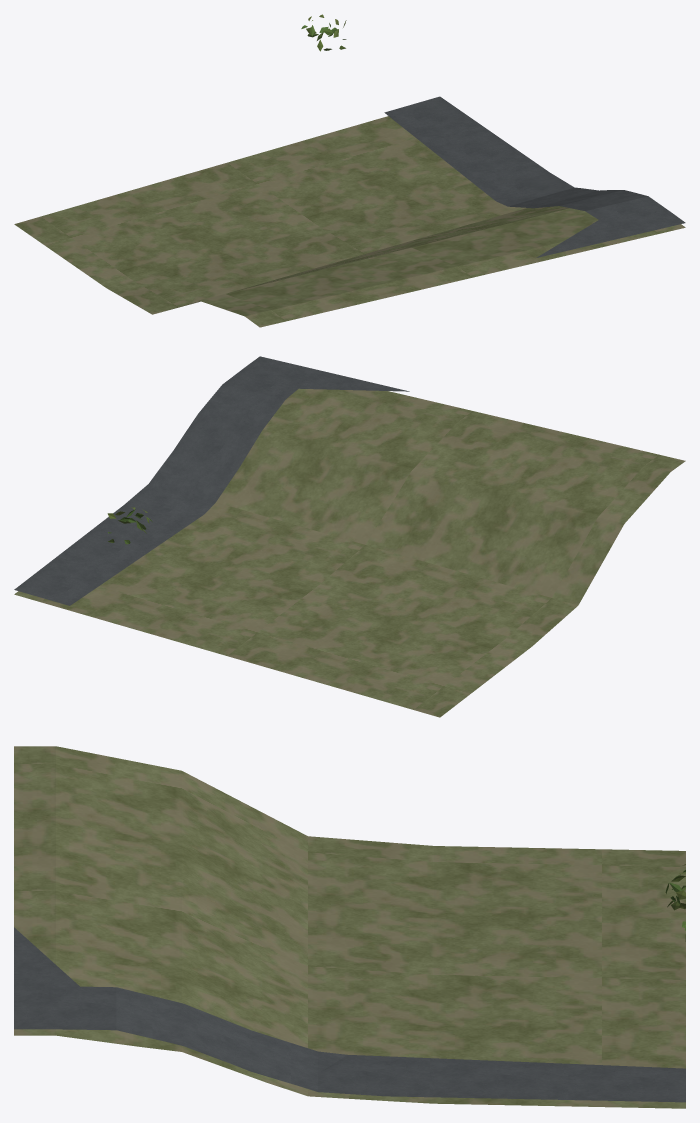
3 views of the same model, one above another, from view 1: azimuth 30°, elevation 25°; view 2: azimuth 150°, elevation 25°; view 3: azimuth 270°, elevation 25° (orthographic). The views are drawn at different scales.
Bounding box in the file's own units: 16 × 4.86 × 16.
Materials: 3 (3 with a texture image).
